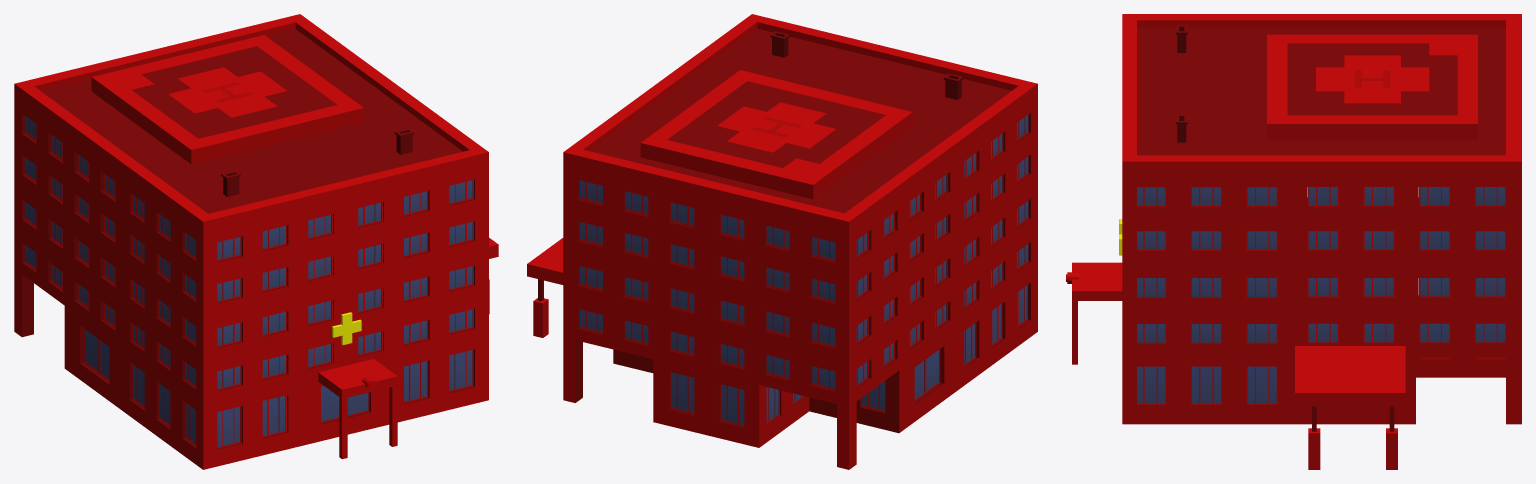
The model's file is RC_ComBuilding4.fbx.
3 renders of one model, left to right at view 1: azimuth 30°, elevation 25°; view 2: azimuth 150°, elevation 25°; view 3: azimuth 270°, elevation 25°, orthographic. The views are drawn at different scales.
Parts seen in each view (by area): view 1: base.074, windowRefl.056, light.007; view 2: base.074, windowRefl.056; view 3: base.074, windowRefl.056.
Part boxes in pixels (x1,y1,x2,y2): base.074: (14,14,498,469); windowRefl.056: (26,116,472,447); light.007: (332,312,361,345); base.074: (527,14,1037,469); windowRefl.056: (580,115,1028,425); base.074: (1066,14,1521,469); windowRefl.056: (1137,187,1504,403).
Size of the model in its own units: 4753 by 3149 by 4701.
